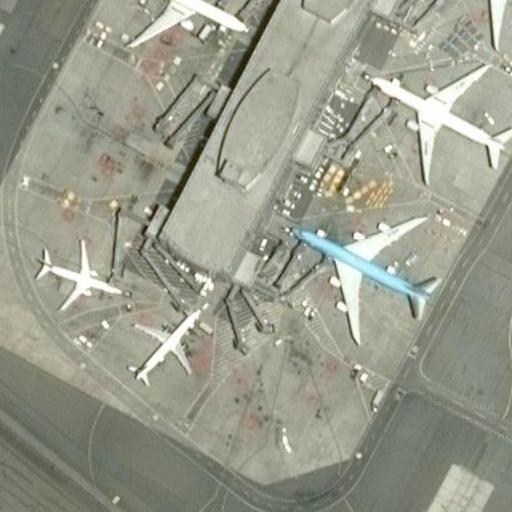Aircraft: (293, 213, 448, 335), (358, 61, 512, 177), (96, 0, 247, 50), (123, 307, 205, 385), (32, 245, 109, 308), (432, 0, 512, 55)
